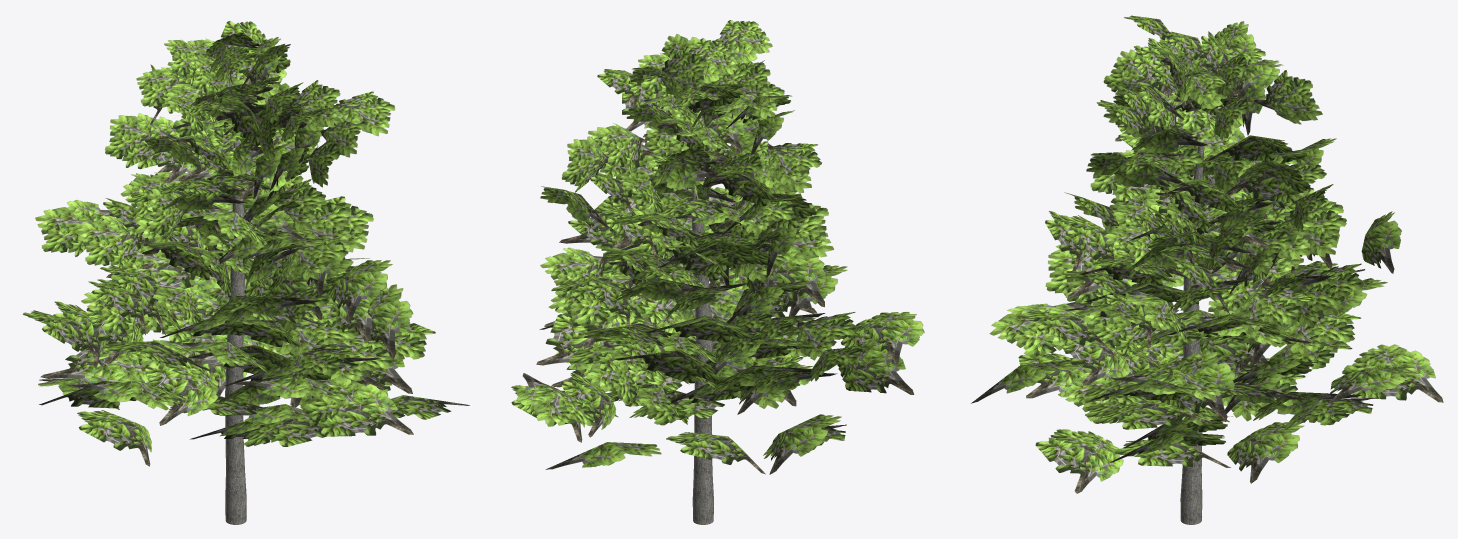
3 views of the same model, side by side, from view 1: azimuth 30°, elevation 25°; view 2: azimuth 150°, elevation 25°; view 3: azimuth 270°, elevation 25° (orthographic). The views are drawn at different scales.
Parts seen in each view (by area): view 1: instancedMergedLeavesMesh_Black_Gum_0_3_0, instancedMergedBranchesLOD_Black_Gum_0_1; view 2: instancedMergedLeavesMesh_Black_Gum_0_3_0, instancedMergedBranchesLOD_Black_Gum_0_1; view 3: instancedMergedLeavesMesh_Black_Gum_0_3_0, instancedMergedBranchesLOD_Black_Gum_0_1.
Boxes of the visible parts, x1,y1,x2,y2 form: instancedMergedLeavesMesh_Black_Gum_0_3_0: (23, 21, 469, 466); instancedMergedBranchesLOD_Black_Gum_0_1: (225, 140, 246, 524); instancedMergedLeavesMesh_Black_Gum_0_3_0: (511, 20, 924, 474); instancedMergedBranchesLOD_Black_Gum_0_1: (691, 180, 713, 524); instancedMergedLeavesMesh_Black_Gum_0_3_0: (971, 15, 1443, 493); instancedMergedBranchesLOD_Black_Gum_0_1: (1180, 142, 1204, 524).
Bounding box in the file's own units: 23.94 × 29.23 × 25.16.
2 materials, 2 textured.
